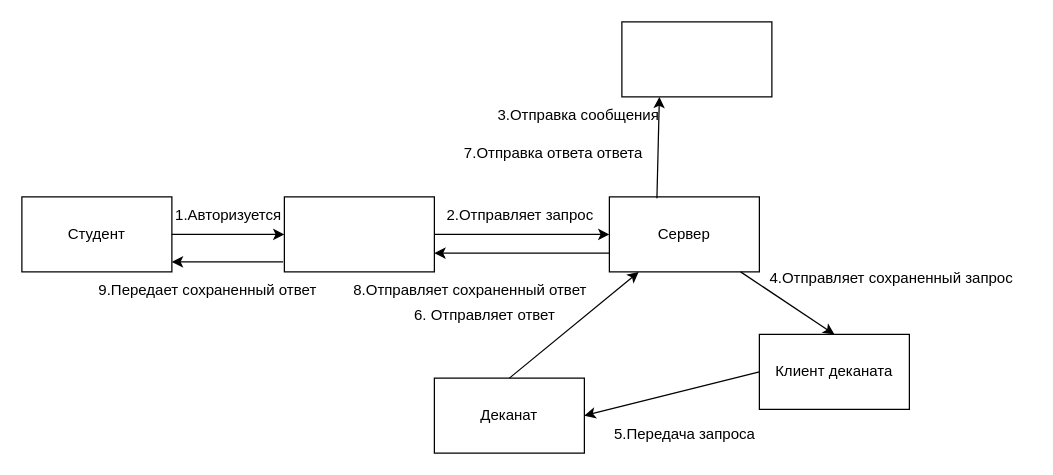
The diagram is 1053 pixels wide and 475 high, and some of its shapes have lost their labels. The shapes that lost their labels are listed below. From the top down, each one's box as (x1, y1, x2, y2) in pixels, then its label:
(621, 21, 772, 97): База данных
(283, 196, 434, 272): Клиент студента
